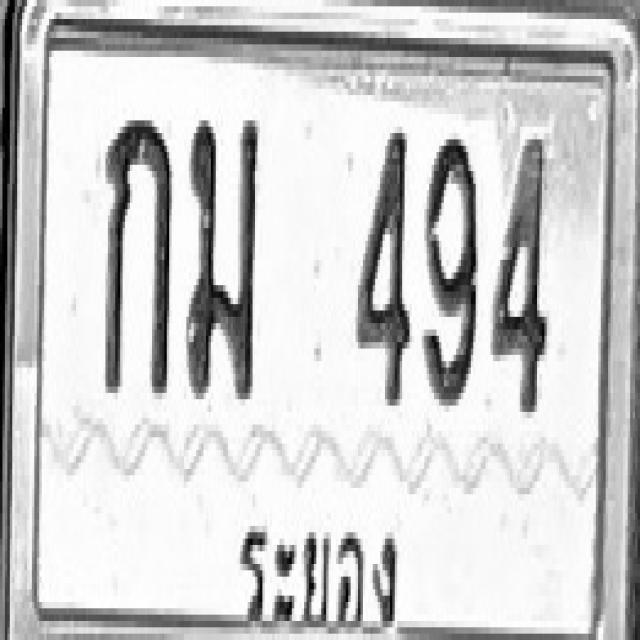10GorGai: (103, 114, 172, 399)
4: (490, 133, 547, 412), (356, 127, 410, 406)
42MorMa: (185, 114, 259, 399)
9: (423, 133, 477, 406)
